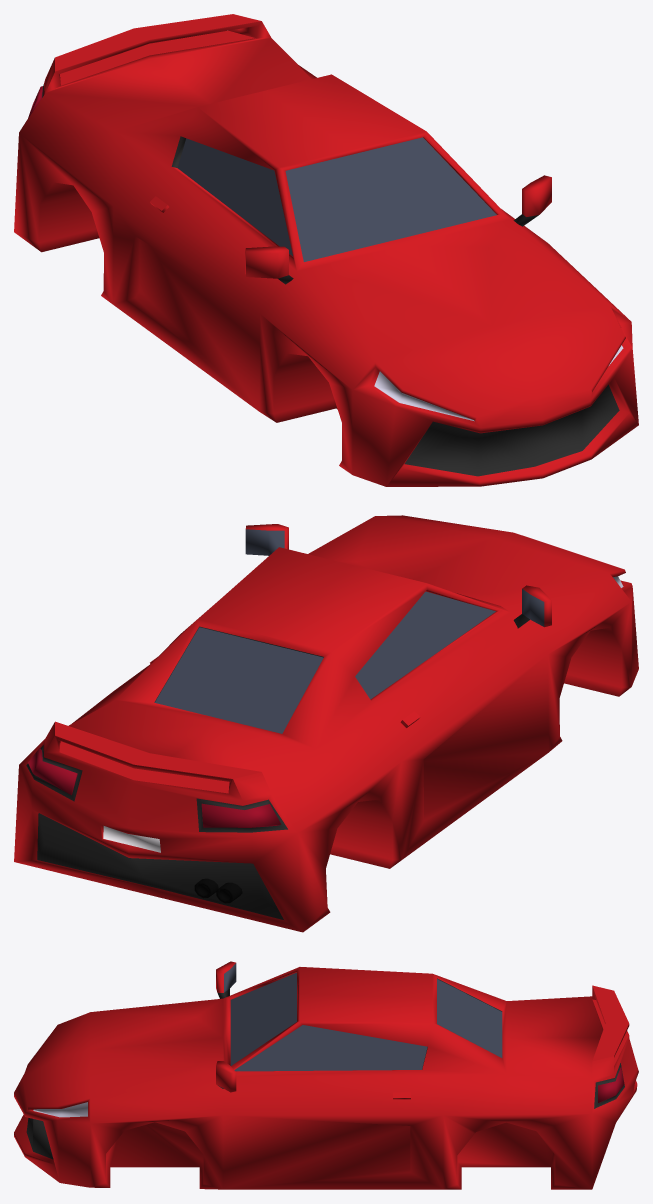
Rendered from CarSport.fbx.
The picture shows the model from 3 angles, top to bottom: view 1: azimuth 30°, elevation 25°; view 2: azimuth 150°, elevation 25°; view 3: azimuth 270°, elevation 25°; orthographic projection. The views are drawn at different scales.
Visible parts, largest first — view 1: CarSport; view 2: CarSport; view 3: CarSport.
Part boxes in pixels (x1,y1,x2,y2): CarSport: [14, 14, 638, 486]; CarSport: [14, 515, 638, 932]; CarSport: [14, 961, 638, 1189].
Bounding box in the file's own units: 1.46 × 3.44 × 0.8657.
